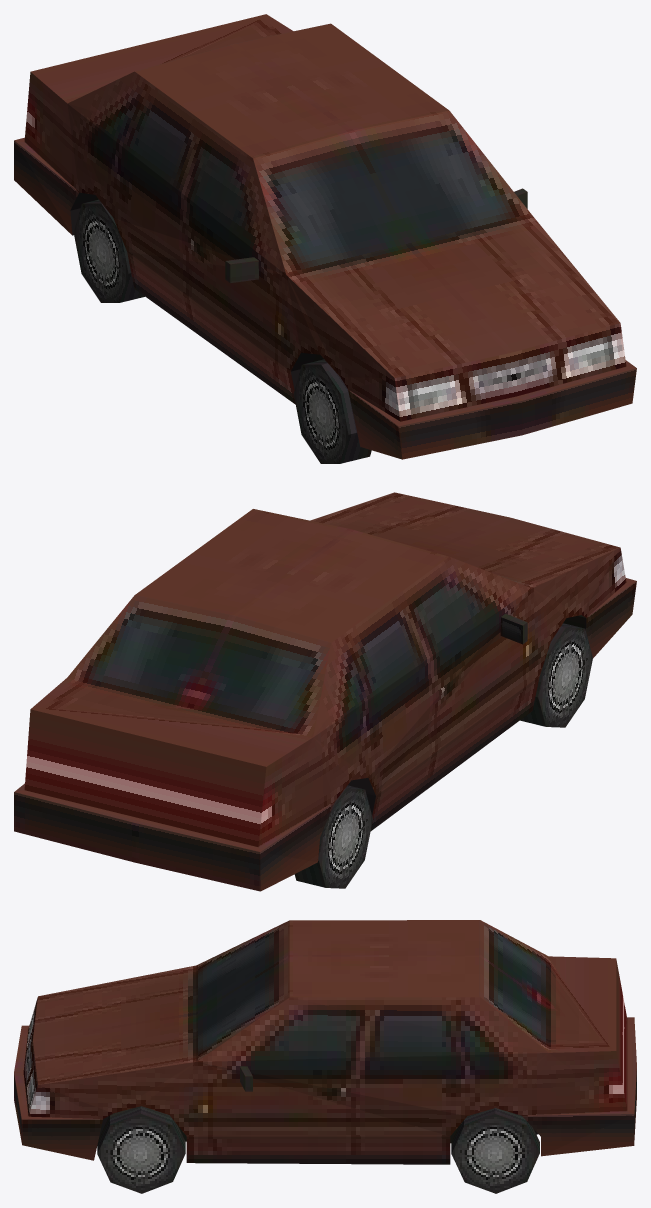
File: car2-red.lod.glb
The picture shows the model from 3 angles, top to bottom: view 1: azimuth 30°, elevation 25°; view 2: azimuth 150°, elevation 25°; view 3: azimuth 270°, elevation 25°; orthographic projection. The views are drawn at different scales.
Visible parts, largest first — view 1: Car2; view 2: Car2; view 3: Car2.
Part boxes in pixels (left/top/right/bottom): Car2: left=14, top=14, right=636, bottom=463; Car2: left=14, top=492, right=636, bottom=891; Car2: left=14, top=920, right=636, bottom=1193.
Size of the model in its own units: 2.9 by 2.2 by 6.53.
1 material, 1 textured.
